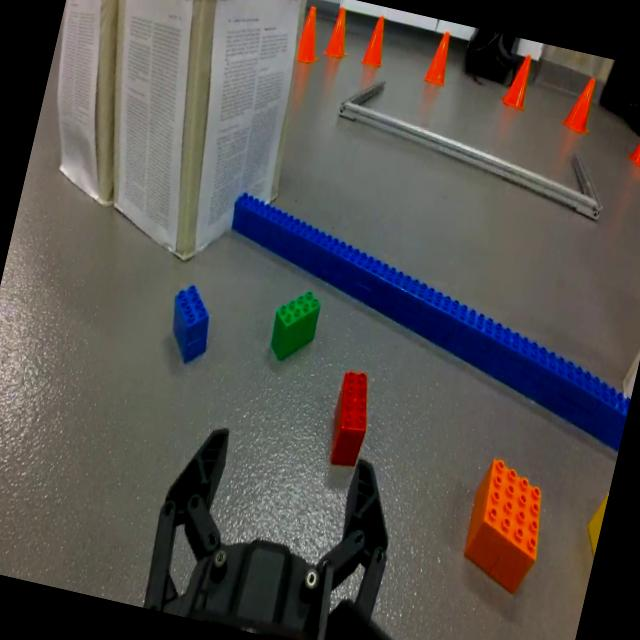block: (581, 491, 608, 559)
blue: (162, 280, 220, 367)
cone: (558, 74, 600, 136), (295, 5, 329, 66), (501, 51, 536, 110), (422, 28, 456, 86), (321, 4, 355, 60), (360, 13, 392, 68), (624, 109, 640, 172)
green: (266, 285, 324, 367)
metal barrier: (328, 70, 620, 222)
orange: (456, 456, 556, 597)
red goal: (322, 368, 378, 470)
river: (230, 191, 631, 454)
storage cube: (63, 0, 324, 277), (56, 0, 118, 212)
